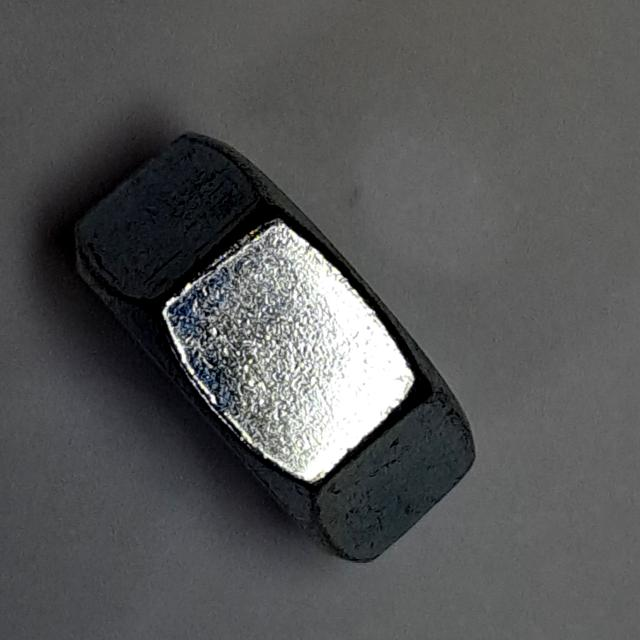Side_Excellent: (66, 124, 486, 573)
